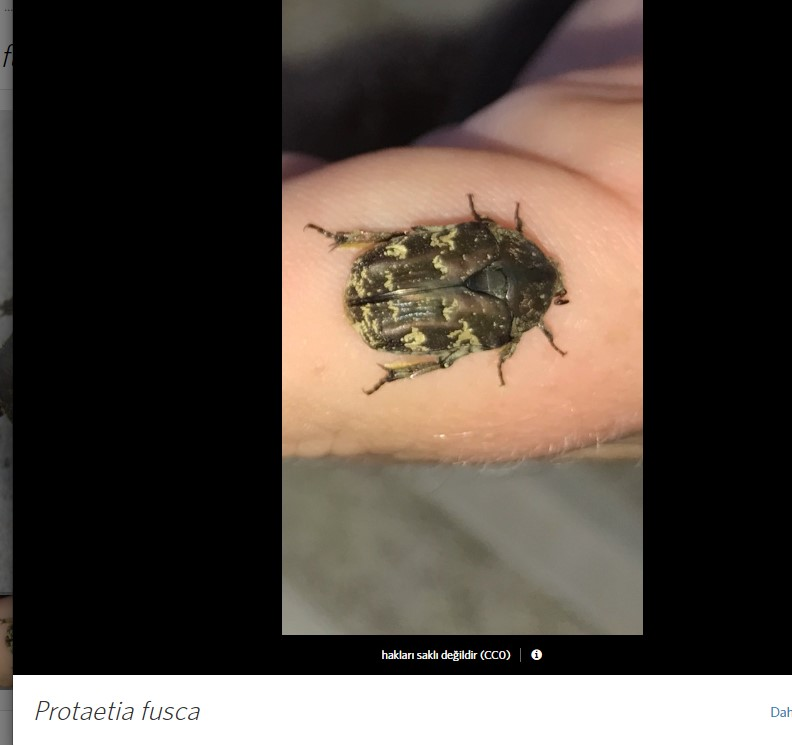Protaetia_fusca: (306, 187, 574, 401)
